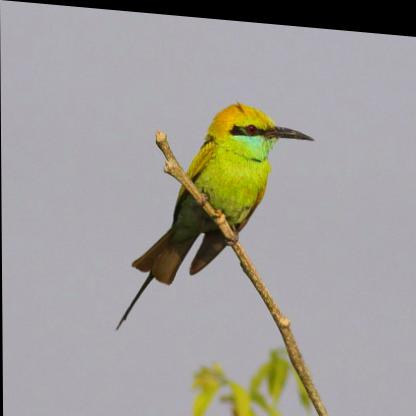Burung: (114, 89, 316, 342)
